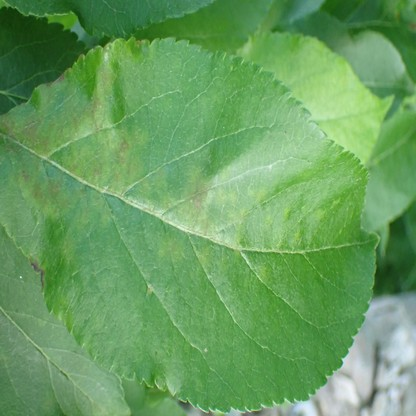scab: (0, 54, 153, 193), (64, 186, 112, 258), (15, 169, 73, 216), (181, 169, 212, 235), (154, 166, 174, 208), (228, 209, 248, 249), (157, 234, 180, 262), (29, 256, 46, 292), (218, 189, 237, 206), (196, 246, 211, 264), (254, 188, 268, 206), (256, 262, 267, 282), (93, 401, 101, 414)
